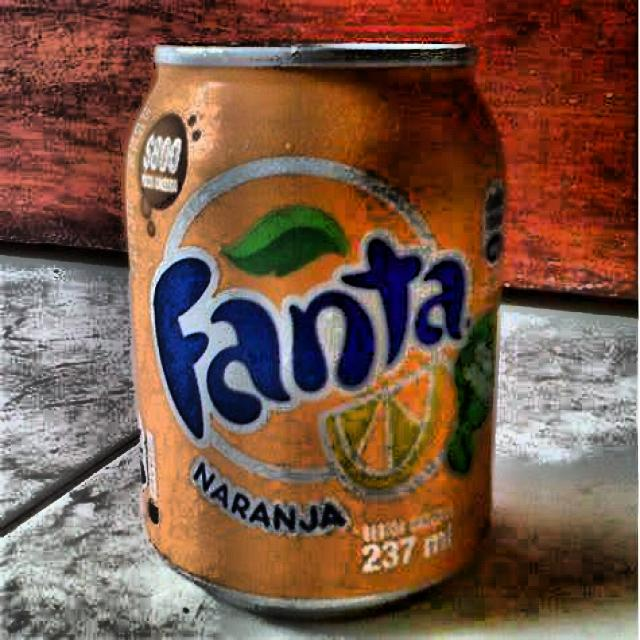Cans: (105, 21, 511, 616)
